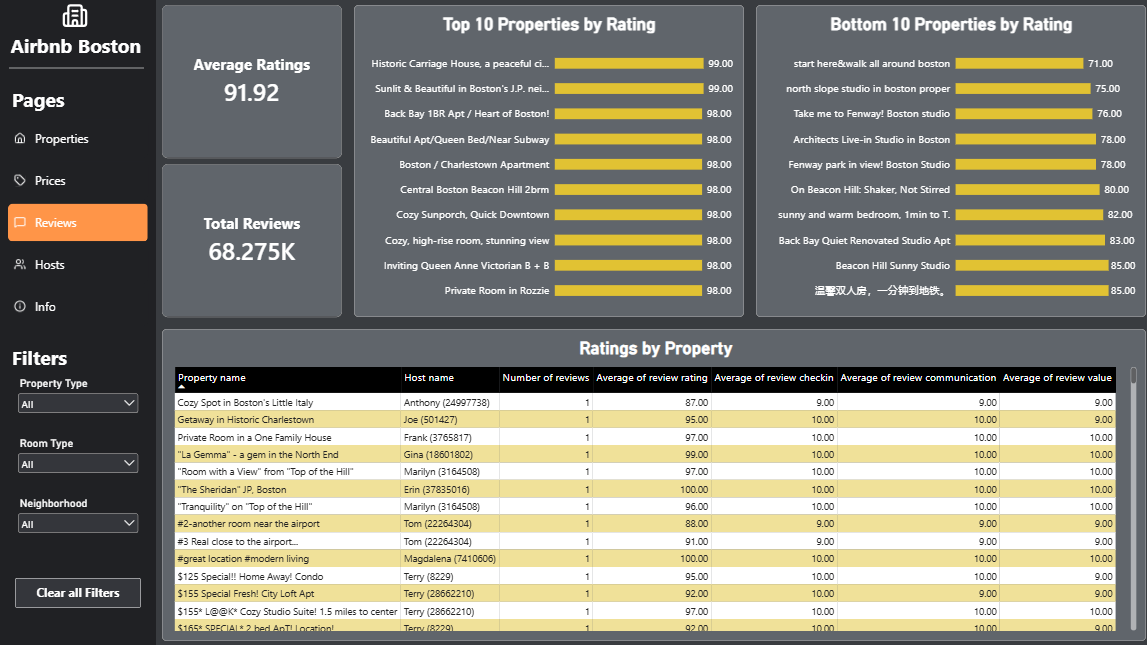

This screenshot's page, from the dashboard's own definition file:
{"tool":"powerbi","page":{"name":"Reviews","canvas":[1920,1080],"ordinal":2},"visuals":[{"type":"shape","box":[0,0,260,1080],"z":0,"group":"g1"},{"type":"tableEx","title":"Ratings by Property","fields":{"Values":["listings.name","listings.Host Display Name","CountNonNull(listings.number_of_reviews)","Avg(listings.review_scores_rating)","Avg(listings.review_scores_checkin)","Avg(listings.review_scores_communication)","Avg(listings.review_scores_value)"]},"box":[270,550,1640,520],"z":0},{"type":"cardVisual","title":"متوسط تقييمات العقارات","fields":{"Data":["Avg(listings.review_scores_rating)"]},"box":[270,10,300,255],"z":1000},{"type":"barChart","title":"Top 10 Properties by Rating","fields":{"Category":["listings.name"],"Y":["Avg(listings.review_scores_rating)"]},"box":[590,10,650,520],"z":2000},{"type":"slicer","fields":{"Values":["listings.property_type"]},"box":[25,630,210,70],"z":2000,"group":"g1"},{"type":"barChart","title":"Bottom 10 Properties by Rating","fields":{"Category":["listings.name"],"Y":["Avg(listings.review_scores_rating)"]},"box":[1260,10,650,520],"z":3000},{"type":"slicer","fields":{"Values":["listings.room_type"]},"box":[25,730,210,70],"z":3000,"group":"g1"},{"type":"cardVisual","title":"اجمالي عدد التقييمات","fields":{"Data":["CountNonNull(reviews.reviewer_id)"]},"box":[270,275,300,255],"z":4000},{"type":"slicer","fields":{"Values":["listings.neighbourhood_cleansed"]},"box":[25,830,210,70],"z":4000,"group":"g1"},{"type":"group","id":"g1","title":"Group 1","box":[0,0,260,1080],"z":5000},{"type":"textbox","box":[20,145,100,50],"z":7000,"group":"g1"},{"type":"shape","box":[15,95,225,40],"z":9000},{"type":"textbox","box":[20,575,110,50],"z":10000,"group":"g1"},{"type":"textbox","box":[17,55,230.6,45.3],"z":11000},{"type":"image","box":[50,5,150,45],"z":12000,"group":"g1"},{"type":"actionButton","box":[26,966,210,50],"z":13000,"group":"g1"},{"type":"actionButton","title":"Overview Button","box":[13,200,235,65],"z":13500,"group":"g1"},{"type":"actionButton","box":[13,270,235,65],"z":14000,"group":"g1"},{"type":"actionButton","box":[13,480,235,65],"z":14250,"group":"g1"},{"type":"actionButton","box":[13,340,235,65],"z":14500,"group":"g1"},{"type":"actionButton","box":[13,410,235,65],"z":15000,"group":"g1"}]}

Visuals, with their boxes on the page's 1920x1080 design canvas (x1, y1, x2, y2). These are canvas units, not pixel positions in the 1147x645 screenshot, which may show the page scaled, cropped or inside an application window:
shape: x1=0 y1=0 x2=260 y2=1080
"Ratings by Property" tableEx: x1=270 y1=550 x2=1910 y2=1070
"متوسط تقييمات العقارات" cardVisual: x1=270 y1=10 x2=570 y2=265
"Top 10 Properties by Rating" barChart: x1=590 y1=10 x2=1240 y2=530
slicer - listings.property_type: x1=25 y1=630 x2=235 y2=700
"Bottom 10 Properties by Rating" barChart: x1=1260 y1=10 x2=1910 y2=530
slicer - listings.room_type: x1=25 y1=730 x2=235 y2=800
"اجمالي عدد التقييمات" cardVisual: x1=270 y1=275 x2=570 y2=530
slicer - listings.neighbourhood_cleansed: x1=25 y1=830 x2=235 y2=900
"Group 1" group: x1=0 y1=0 x2=260 y2=1080
textbox: x1=20 y1=145 x2=120 y2=195
shape: x1=15 y1=95 x2=240 y2=135
textbox: x1=20 y1=575 x2=130 y2=625
textbox: x1=17 y1=55 x2=248 y2=100
image: x1=50 y1=5 x2=200 y2=50
actionButton: x1=26 y1=966 x2=236 y2=1016
"Overview Button" actionButton: x1=13 y1=200 x2=248 y2=265
actionButton: x1=13 y1=270 x2=248 y2=335
actionButton: x1=13 y1=480 x2=248 y2=545
actionButton: x1=13 y1=340 x2=248 y2=405
actionButton: x1=13 y1=410 x2=248 y2=475
